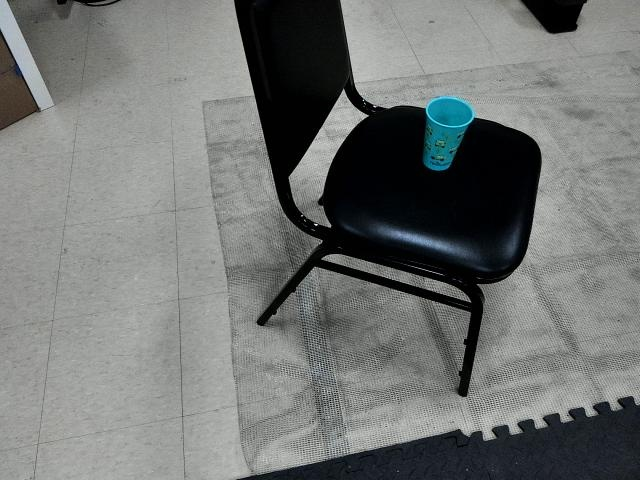coffee_cup: (427, 97, 474, 174)
